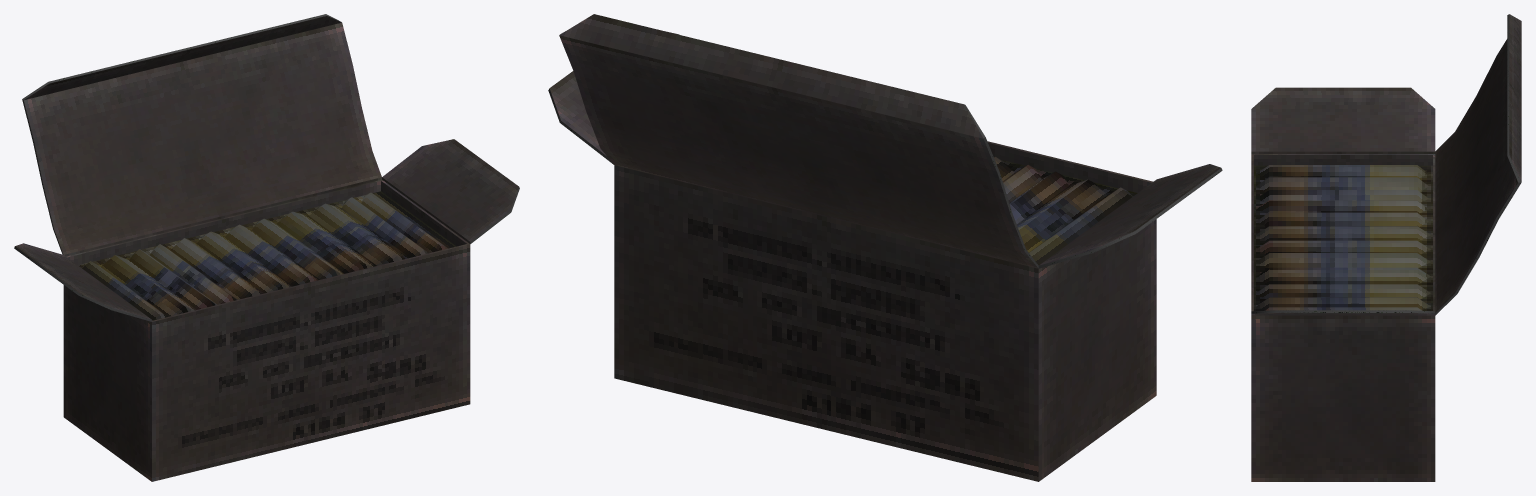
File: ammo_box_mp_5.glb
3 renders of one model, left to right at view 1: azimuth 30°, elevation 25°; view 2: azimuth 150°, elevation 25°; view 3: azimuth 270°, elevation 25°, orthographic. The views are drawn at different scales.
Parts seen in each view (by area): view 1: ammo_box_mp_5; view 2: ammo_box_mp_5; view 3: ammo_box_mp_5.
Boxes of the visible parts, x1=… form: ammo_box_mp_5: x1=14, y1=14, x2=519, y2=481; ammo_box_mp_5: x1=548, y1=14, x2=1222, y2=481; ammo_box_mp_5: x1=1251, y1=14, x2=1521, y2=481.
Size of the model in its own units: 0.2806 by 0.1851 by 0.1431.
Materials: 1 (1 with a texture image).
